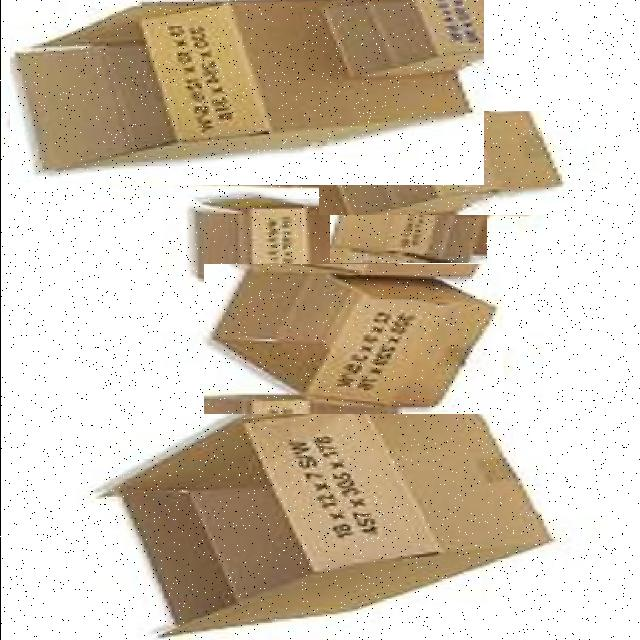defect: (101, 400, 558, 634), (9, 0, 483, 185), (203, 264, 502, 414), (318, 111, 570, 215), (329, 199, 486, 263)
